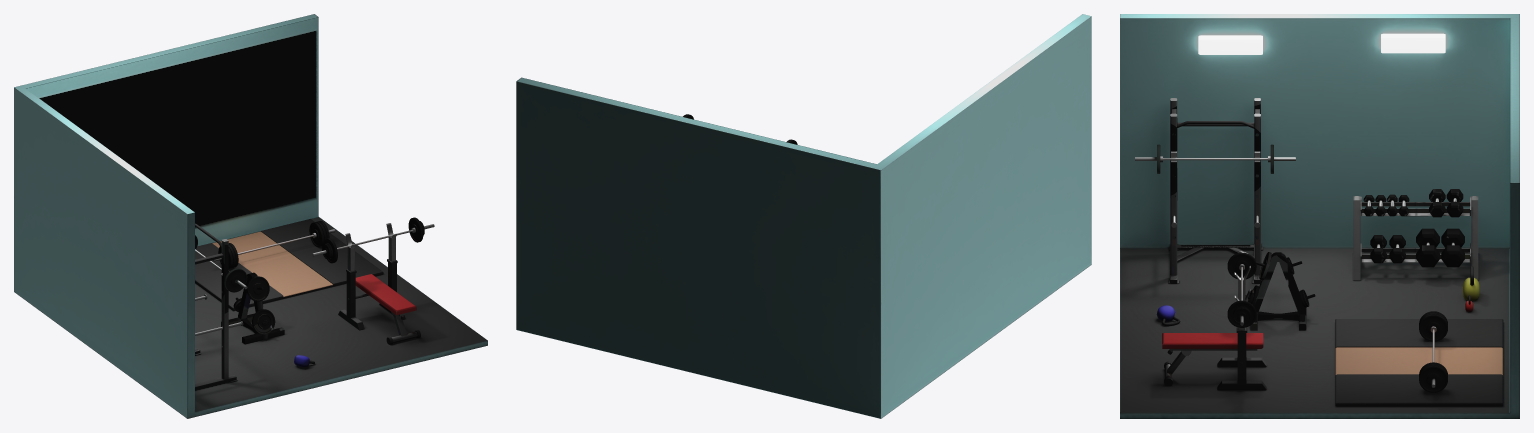
The model's file is gym1.glb.
The picture shows the model from 3 angles, left to right: view 1: azimuth 30°, elevation 25°; view 2: azimuth 150°, elevation 25°; view 3: azimuth 270°, elevation 25°; orthographic projection. The views are drawn at different scales.
Visible parts, largest first — view 1: room1, deadlift, bench, squat, plates; view 2: room1; view 3: room1, deadlift, dumbbells, bench, squat, plates, light-r, light-l, kettlebells.
Boxes of the visible parts, left/top/right/bottom form: room1: left=14, top=14, right=487, bottom=418; deadlift: left=195, top=219, right=383, bottom=310; bench: left=312, top=217, right=434, bottom=344; squat: left=195, top=223, right=247, bottom=389; plates: left=221, top=272, right=284, bottom=344; room1: left=516, top=14, right=1091, bottom=418; room1: left=1120, top=14, right=1519, bottom=418; deadlift: left=1335, top=311, right=1503, bottom=405; dumbbells: left=1353, top=189, right=1478, bottom=280; bench: left=1162, top=252, right=1266, bottom=389; squat: left=1135, top=98, right=1295, bottom=283; plates: left=1245, top=252, right=1315, bottom=330; light-r: left=1381, top=33, right=1445, bottom=53; light-l: left=1198, top=35, right=1262, bottom=54; kettlebells: left=1156, top=266, right=1479, bottom=326.
Size of the model in its own units: 3.07 by 2 by 3.07.
28 materials, 27 textured.
